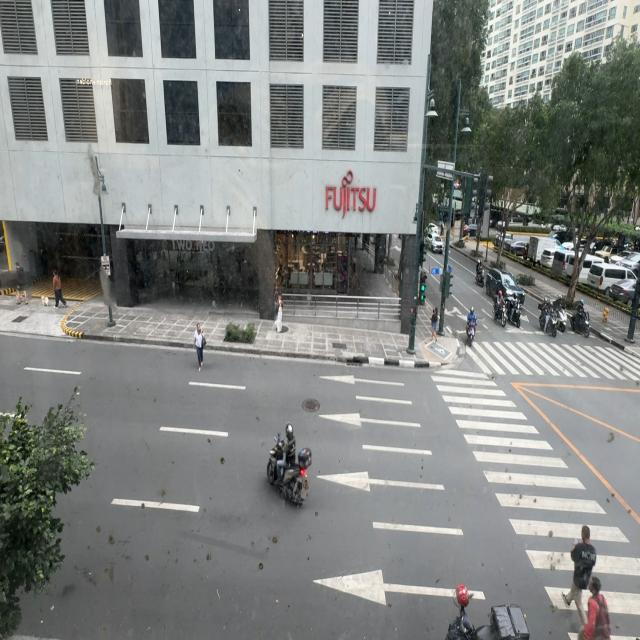crossing: (562, 524, 596, 624), (588, 577, 611, 640)
jaywalking: (194, 323, 205, 371)
